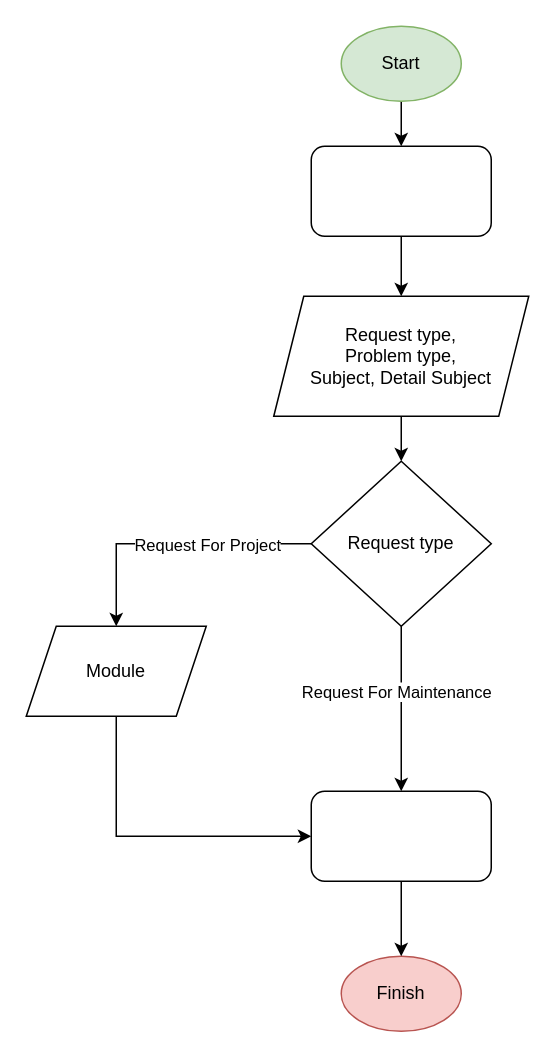
Some shapes in this 555 by 1058 pixel diagram are drawn without their labels. The shapes that lost their labels are listed below. From the top down, each one's box as (x1, y1, x2, y2) in pixels, then its label:
(310, 145, 491, 236): Register Tiket
(310, 790, 491, 881): Save
